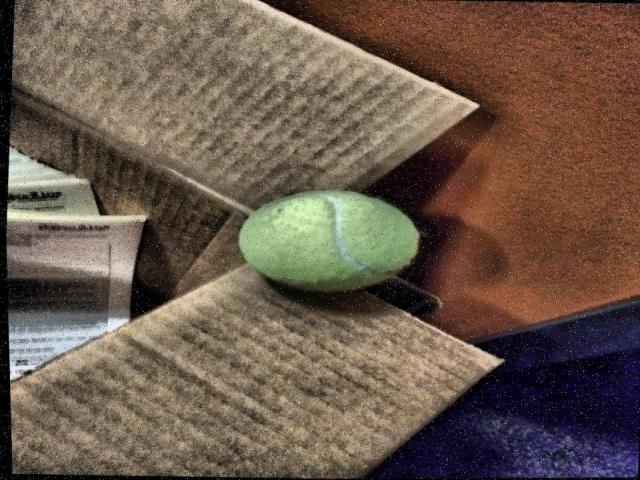tennis-ball: (238, 189, 420, 293)
